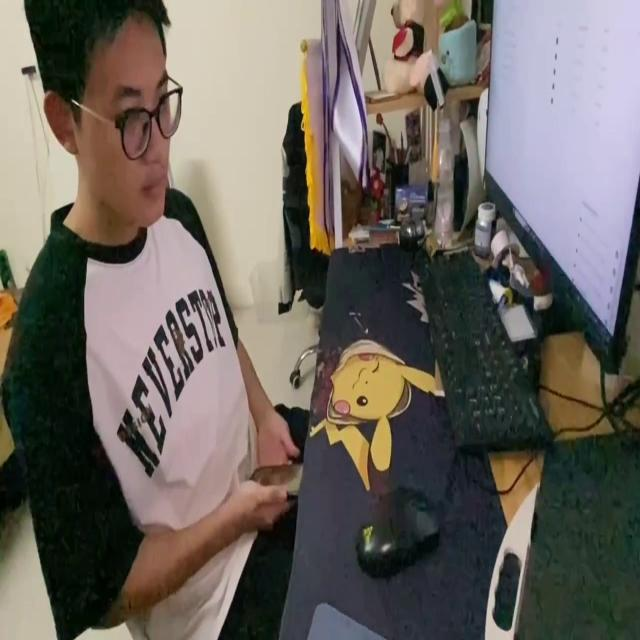laptop: (484, 0, 640, 386)
phone: (248, 454, 306, 498)
student: (3, 0, 296, 640)
